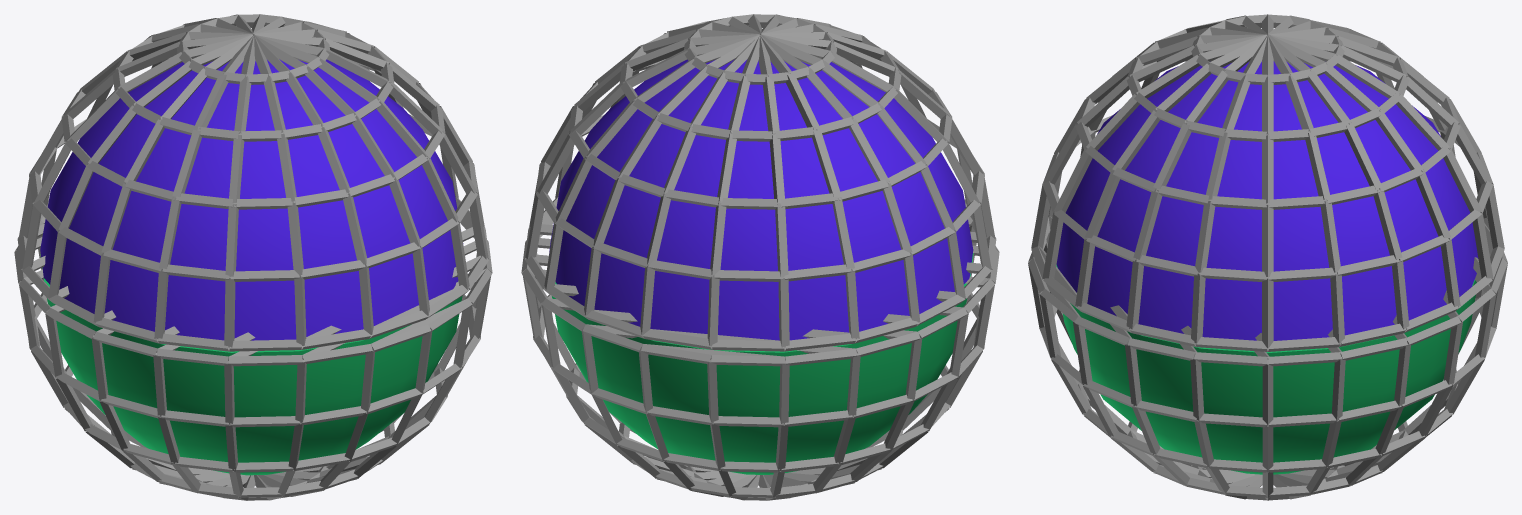
The model's file is drone.FBX.
3 renders of one model, left to right at view 1: azimuth 30°, elevation 25°; view 2: azimuth 150°, elevation 25°; view 3: azimuth 270°, elevation 25°, orthographic.
Visible parts, largest first — view 1: Sphere004, Sphere002; view 2: Sphere004, Sphere002; view 3: Sphere004, Sphere002.
Boxes of the visible parts, <box> form: Sphere004: <box>17,14,489,351</box>; Sphere002: <box>14,216,492,500</box>; Sphere004: <box>524,14,996,351</box>; Sphere002: <box>521,216,999,500</box>; Sphere004: <box>1031,14,1504,351</box>; Sphere002: <box>1028,230,1507,500</box>.
Bounding box in the file's own units: 48.41 × 49.61 × 48.41.
